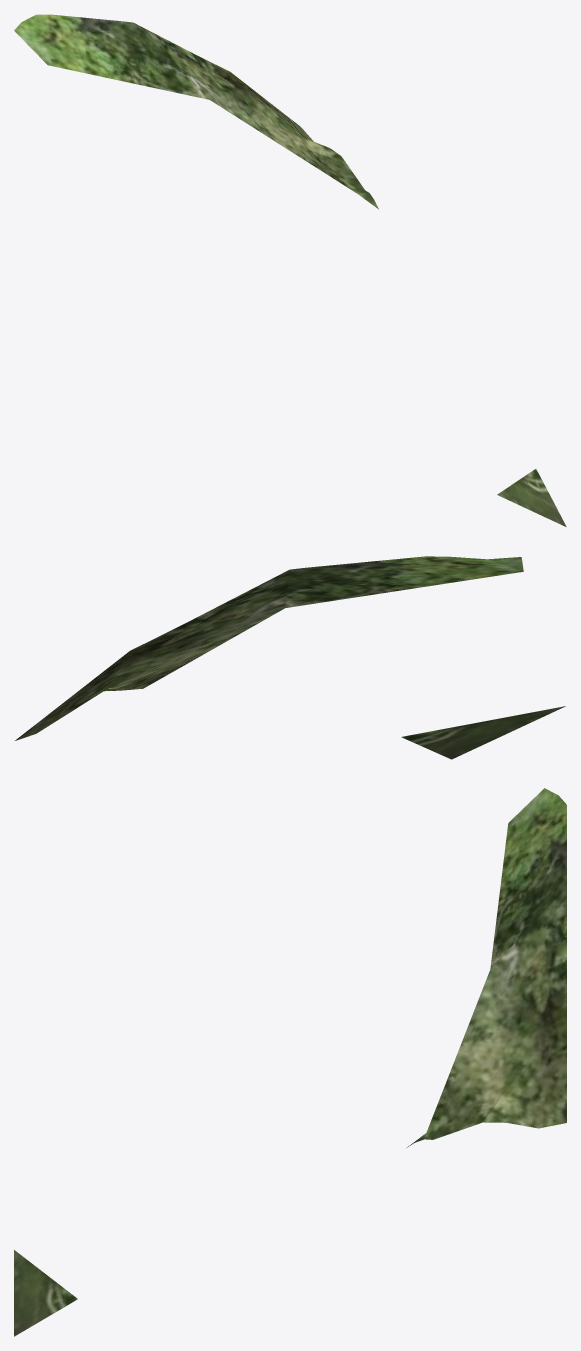
3 views of the same model, one above another, from view 1: azimuth 30°, elevation 25°; view 2: azimuth 150°, elevation 25°; view 3: azimuth 270°, elevation 25° (orthographic). The views are drawn at different scales.
Size of the model in its own units: 3.81 by 4.68 by 5.9.
Materials: 1 (1 with a texture image).
